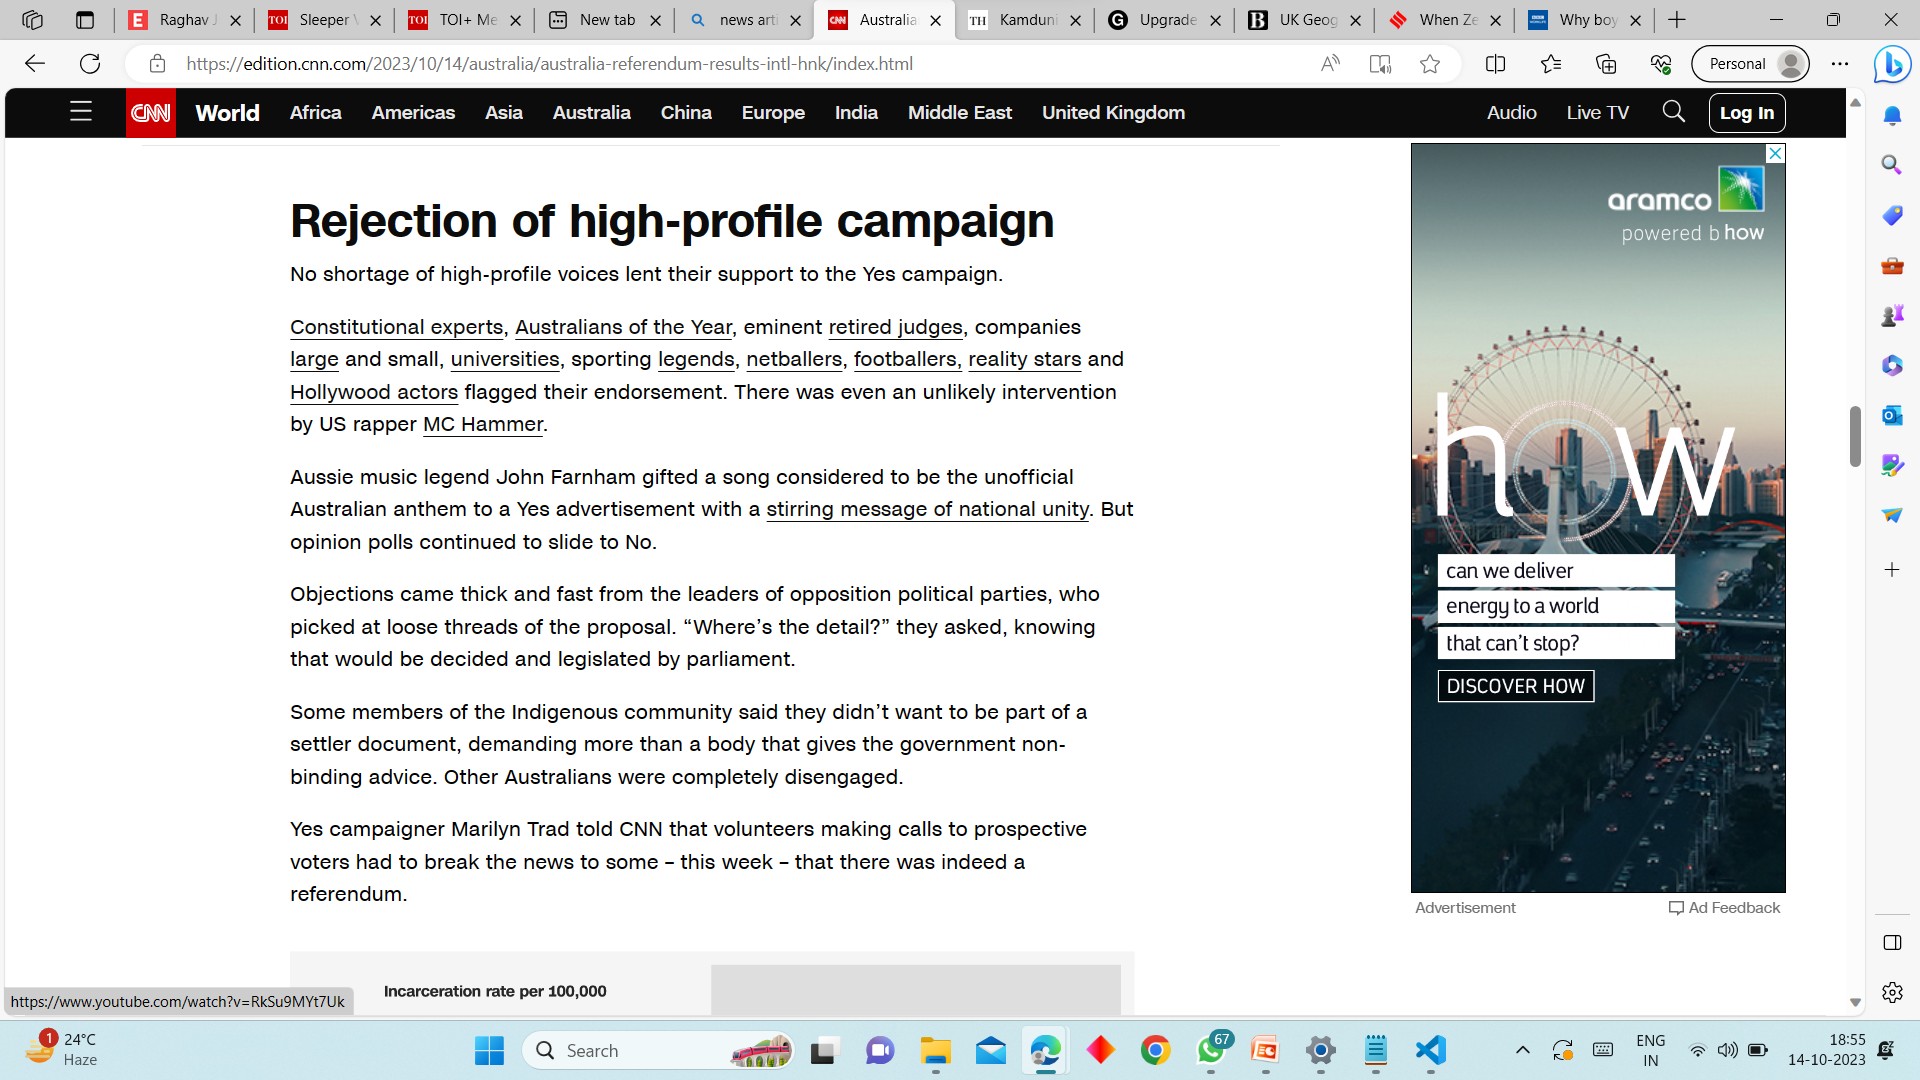Image: (1409, 143, 1787, 870), (123, 85, 179, 152), (1652, 65, 1695, 132), (67, 92, 107, 136)
Paragraph: (286, 309, 1158, 436), (286, 575, 1169, 686), (288, 447, 1156, 557), (275, 693, 1136, 798), (284, 814, 1129, 910), (288, 188, 1071, 244), (284, 259, 1000, 284), (1031, 94, 1203, 134), (179, 85, 284, 145), (899, 92, 1020, 136), (1664, 888, 1796, 926), (731, 87, 818, 139), (546, 89, 637, 130), (367, 96, 470, 130), (1563, 96, 1650, 136), (1720, 87, 1782, 136), (830, 87, 888, 136), (1406, 899, 1520, 921), (288, 92, 347, 134), (1471, 92, 1541, 127), (646, 98, 718, 130), (476, 94, 534, 114)
